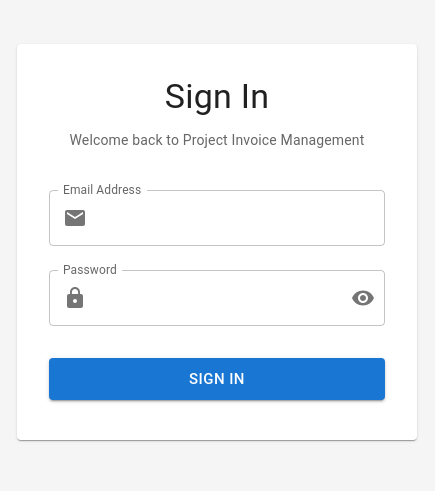
Test case: LoginForm › should handle login error
Expected: the heading "Sign In" is shown, [165,76,269,116]
Type "test@example.com" into the field labelled "Email Address" at [240, 218], box [95,190,385,246]
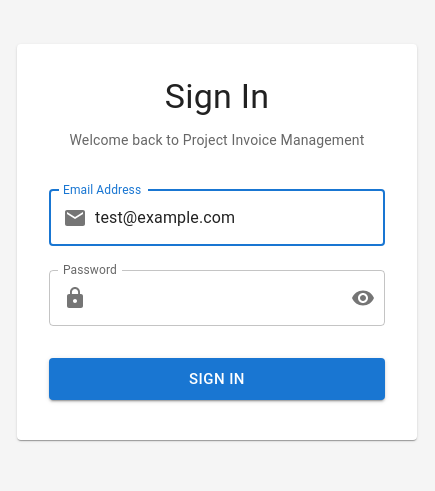
Type "wrongpassword" into the password field labelled "Password" at [215, 298], box [95,270,335,326]
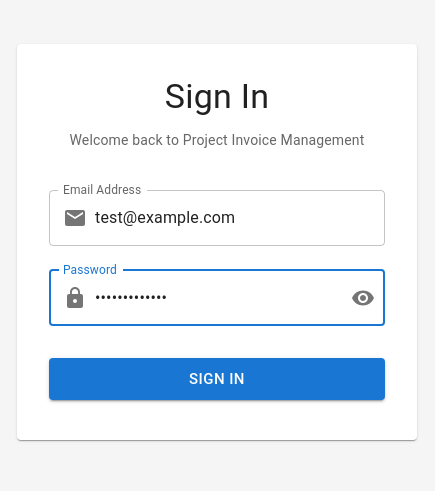
Click the button "Sign In" at [217, 379], box [49,358,385,400]
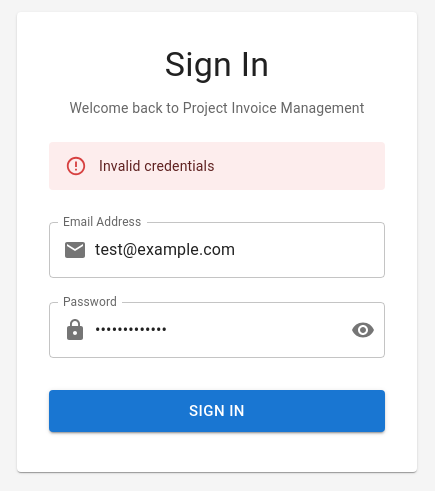
Result: the text "Invalid credentials" is shown at [99,158,214,174]
